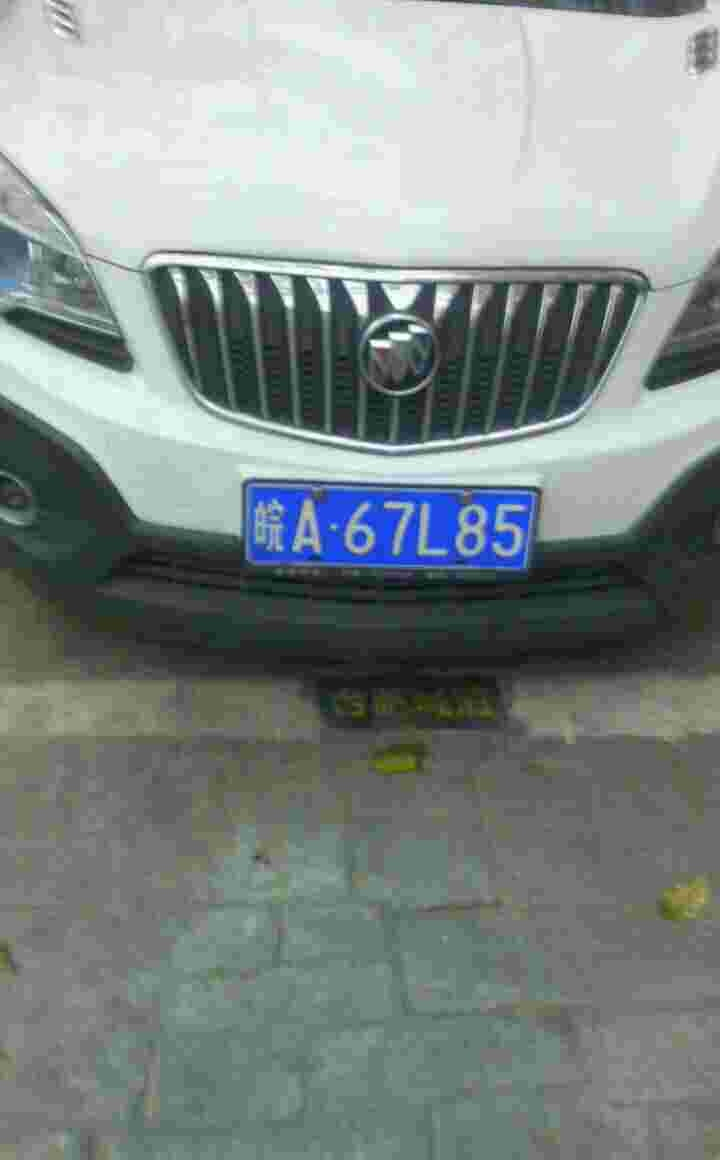license_plate: (233, 482, 539, 578)
